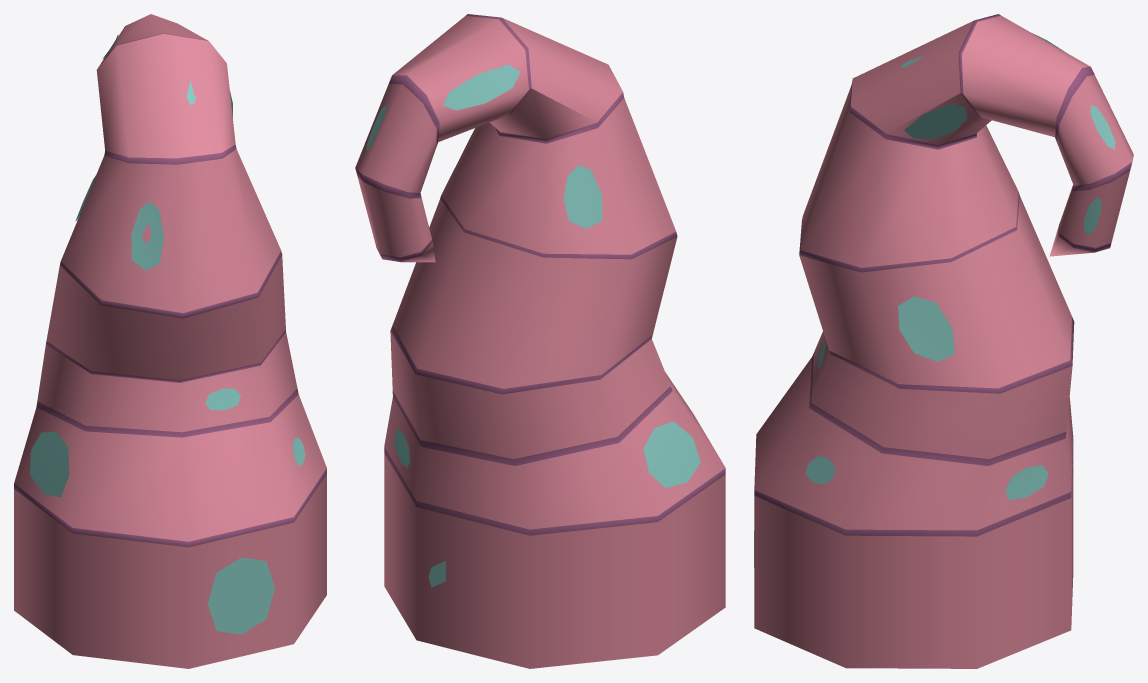
The model's file is Tree_1.fbx.
3 views of the same model, side by side, from view 1: azimuth 30°, elevation 25°; view 2: azimuth 150°, elevation 25°; view 3: azimuth 270°, elevation 25° (orthographic). The views are drawn at different scales.
Parts seen in each view (by area): view 1: Tree_1; view 2: Tree_1; view 3: Tree_1.
Part boxes in pixels (x1,y1,x2,y2): Tree_1: (14,14,326,668); Tree_1: (355,14,725,668); Tree_1: (754,14,1133,668).
Size of the model in its own units: 170 by 202 by 348.
